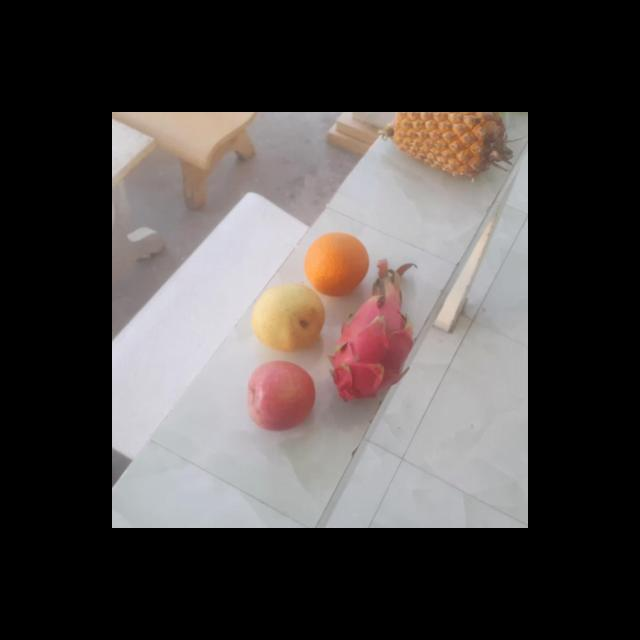apple: (244, 359, 320, 432)
orange: (301, 232, 371, 296)
pear: (248, 282, 326, 352)
pitaya: (325, 284, 413, 404)
